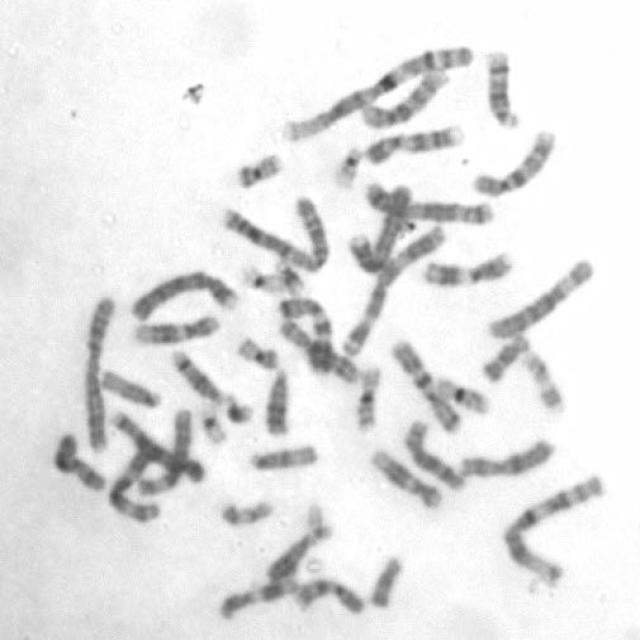A1: (276, 39, 474, 144), (497, 469, 607, 586)
A2: (215, 190, 331, 274), (77, 290, 118, 455)
A3: (336, 221, 447, 357), (104, 440, 165, 523)
B4: (342, 178, 414, 274), (124, 265, 242, 322)
B5: (105, 404, 207, 484), (358, 177, 496, 226)
C10: (466, 123, 559, 200), (355, 64, 452, 130)
C11: (213, 572, 296, 623), (418, 247, 515, 289)
C12: (366, 443, 444, 510), (128, 310, 221, 346)
C6: (481, 254, 597, 340), (128, 404, 195, 496)
C7: (386, 334, 464, 435), (273, 289, 337, 379)
C8: (399, 416, 466, 492), (281, 319, 359, 384)
C9: (362, 119, 466, 167), (290, 572, 365, 616)
D13: (260, 538, 319, 582), (261, 364, 292, 438)
D14: (480, 45, 521, 130), (167, 344, 223, 405)
D15: (95, 365, 162, 410), (244, 439, 320, 473)
E16: (430, 372, 490, 415), (351, 360, 383, 432)
E17: (518, 346, 566, 415), (214, 494, 275, 528)
E18: (478, 330, 531, 384), (365, 550, 404, 610)
F19: (232, 263, 286, 296), (193, 398, 228, 447)
F20: (231, 147, 284, 189), (233, 331, 280, 371)
G21: (270, 253, 307, 296), (219, 389, 255, 426)
G22: (328, 140, 365, 190), (303, 498, 333, 545)
X: (454, 434, 556, 479), (48, 428, 109, 493)
